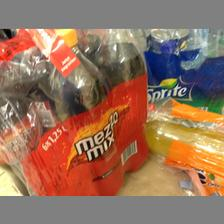Soda: (48, 29, 120, 193), (94, 29, 150, 171)
